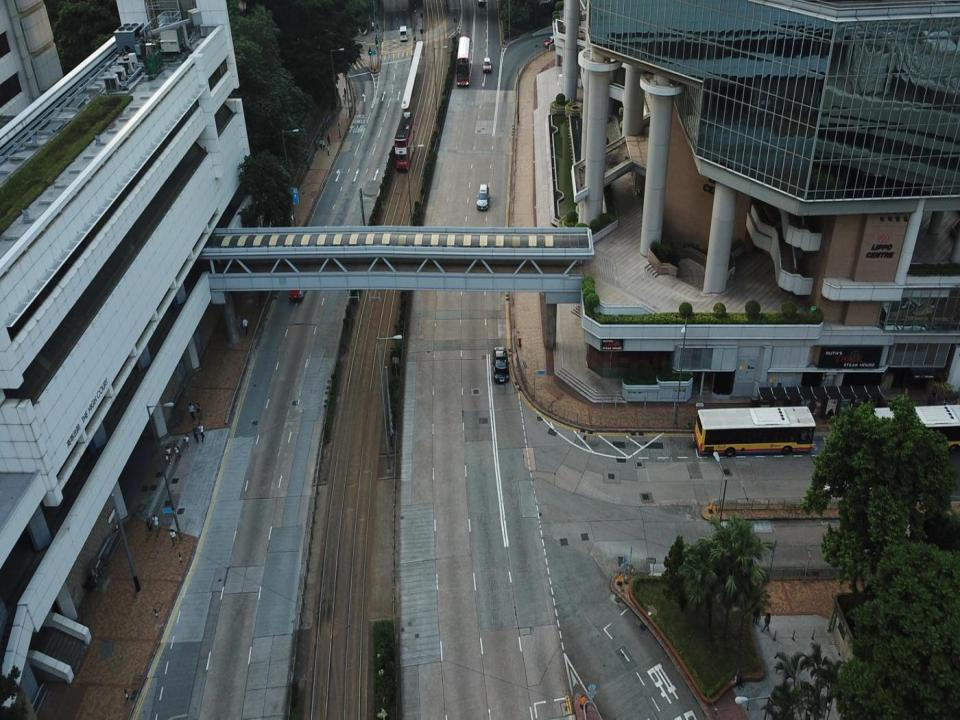bus: (696, 406, 816, 457), (867, 404, 960, 455), (393, 110, 416, 171), (456, 37, 470, 85)
car: (493, 346, 509, 383), (289, 274, 307, 301), (476, 184, 488, 210), (543, 34, 559, 47), (483, 56, 492, 73), (478, 0, 485, 6)
van: (400, 25, 408, 41)
